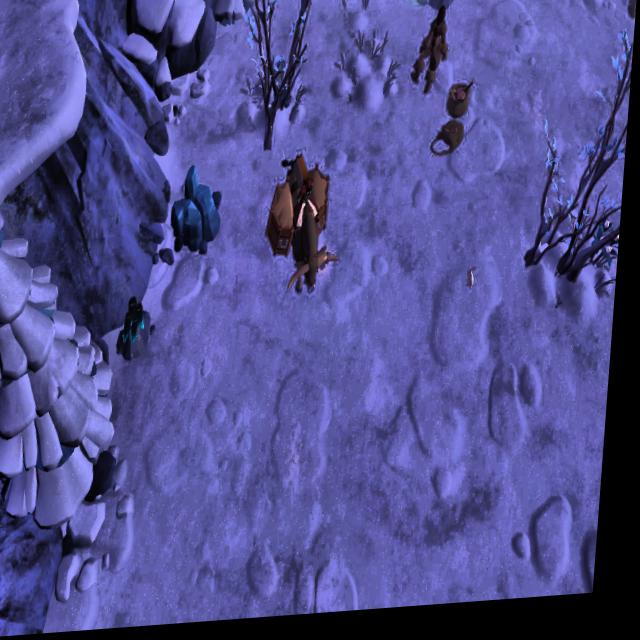enemy_factionKeeper: (410, 10, 452, 101), (604, 0, 640, 38)
ore_t4: (126, 298, 150, 351)
rock_t4: (170, 169, 230, 256)
